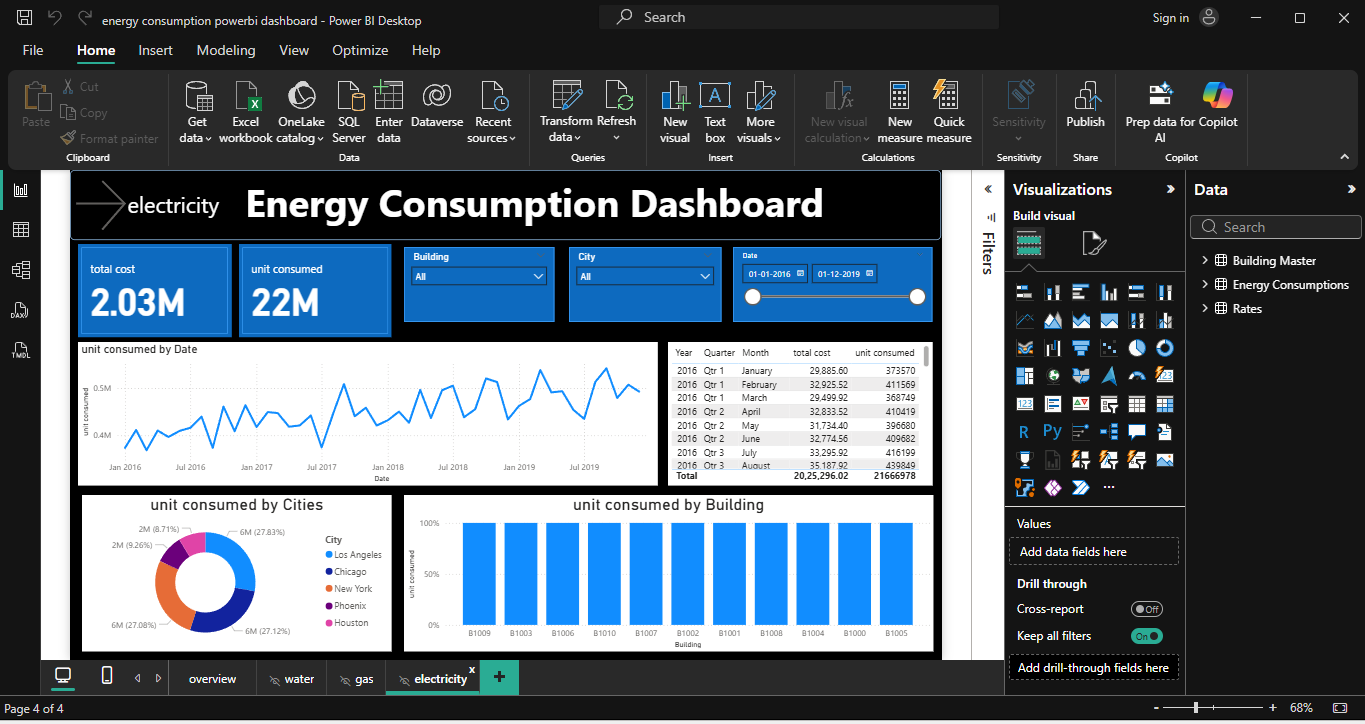

The dashboard page shown, as its layout file describes it:
{"tool":"powerbi","page":{"name":"electricity","canvas":[1280,720],"ordinal":3},"visuals":[{"type":"textbox","box":[0,0,1279.5,102.7],"z":0},{"type":"cardVisual","fields":{"Data":["Energy Consumptions.total cost"]},"box":[11.6,108.4,225.5,137.3],"z":1000},{"type":"cardVisual","fields":{"Data":["Energy Consumptions.unit consumed"]},"box":[248.7,108.4,224.1,137.3],"z":2000},{"type":"slicer","fields":{"Values":["Building Master.Building"]},"box":[490.1,112.8,221.2,109.9],"z":3000},{"type":"slicer","fields":{"Values":["Building Master.City"]},"box":[733,112.8,224.1,109.9],"z":4000},{"type":"slicer","fields":{"Values":["Energy Consumptions.Date"]},"box":[974.5,112.8,293.5,109.9],"z":5000},{"type":"tableEx","title":"total cost by time and Consumption type","fields":{"Values":["Energy Consumptions.Date.Variation.Date Hierarchy.Year","Energy Consumptions.Date.Variation.Date Hierarchy.Quarter","Energy Consumptions.Date.Variation.Date Hierarchy.Month","Energy Consumptions.total cost","Energy Consumptions.unit consumed"]},"box":[879,253,388.9,211.1],"z":6000},{"type":"donutChart","title":"unit consumed by Cities","fields":{"Y":["Energy Consumptions.unit consumed"],"Category":["Building Master.City"]},"box":[17.3,477.1,455.4,229.9],"z":7000},{"type":"hundredPercentStackedColumnChart","fields":{"Y":["Energy Consumptions.unit consumed"],"Category":["Energy Consumptions.Building"]},"box":[490.1,477.1,777.8,229.9],"z":8000},{"type":"textbox","box":[79.5,23.1,157.6,57.8],"z":9000},{"type":"lineChart","fields":{"Y":["Energy Consumptions.unit consumed"],"Category":["Energy Consumptions.Date"]},"box":[11.6,253,851.6,211.1],"z":10000},{"type":"actionButton","box":[0,0,89.6,104.1],"z":10001}]}

Visuals, with their boxes on the page's 1280x720 design canvas (x1, y1, x2, y2). These are canvas units, not pixel positions in the 1365x724 screenshot, which may show the page scaled, cropped or inside an application window:
textbox: {"left": 0, "top": 0, "right": 1280, "bottom": 103}
cardVisual - Energy Consumptions.total cost: {"left": 12, "top": 108, "right": 237, "bottom": 246}
cardVisual - Energy Consumptions.unit consumed: {"left": 249, "top": 108, "right": 473, "bottom": 246}
slicer - Building Master.Building: {"left": 490, "top": 113, "right": 711, "bottom": 223}
slicer - Building Master.City: {"left": 733, "top": 113, "right": 957, "bottom": 223}
slicer - Energy Consumptions.Date: {"left": 974, "top": 113, "right": 1268, "bottom": 223}
"total cost by time and Consumption type" tableEx: {"left": 879, "top": 253, "right": 1268, "bottom": 464}
"unit consumed by Cities" donutChart: {"left": 17, "top": 477, "right": 473, "bottom": 707}
hundredPercentStackedColumnChart - Energy Consumptions.unit consumed x Energy Consumptions.Building: {"left": 490, "top": 477, "right": 1268, "bottom": 707}
textbox: {"left": 80, "top": 23, "right": 237, "bottom": 81}
lineChart - Energy Consumptions.unit consumed x Energy Consumptions.Date: {"left": 12, "top": 253, "right": 863, "bottom": 464}
actionButton: {"left": 0, "top": 0, "right": 90, "bottom": 104}
